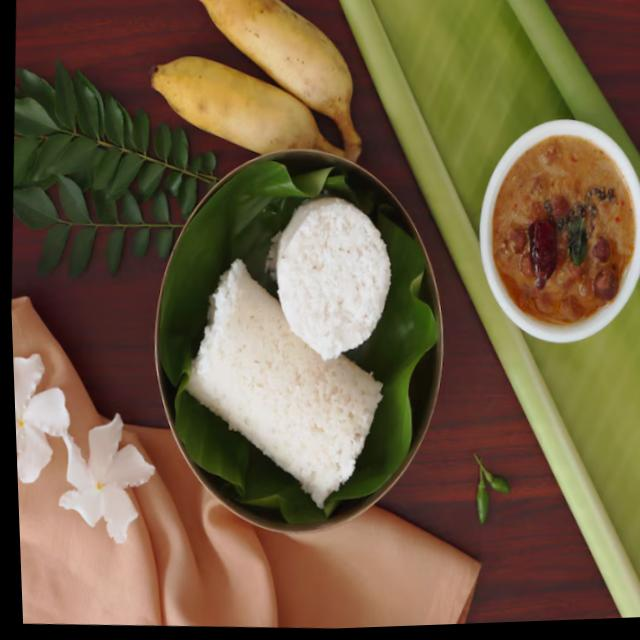CURRY: (186, 189, 393, 507), (491, 132, 638, 328)
